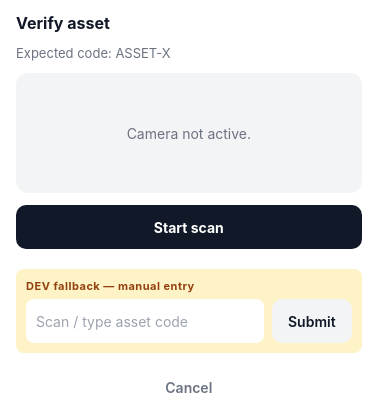
ScannerCapture — manual entry → result › manual submit with non-matching code yields result: mismatch
This screenshot has width=379, height=410.
Type "ASSET-WRONG" into the field named "Manually enter asset code" at coordinates (145, 321), box [26,299,264,343]
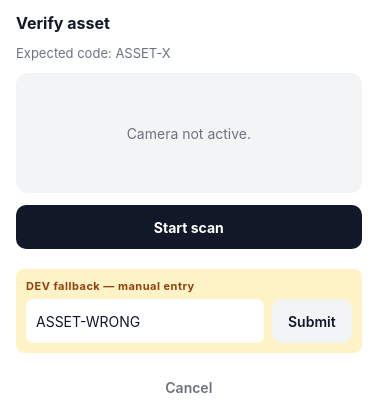
Click the button with aria-label "Submit manual scan" at coordinates (312, 321), box [272,299,352,343]
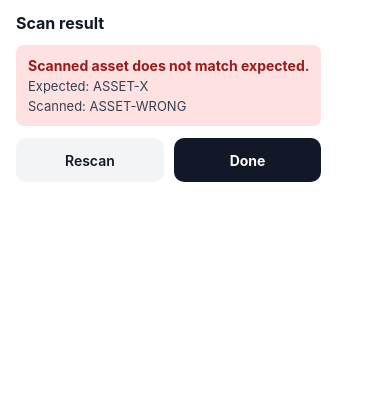
Result: the text "Scanned asset does not match expected." is shown at [28,57,309,74]
